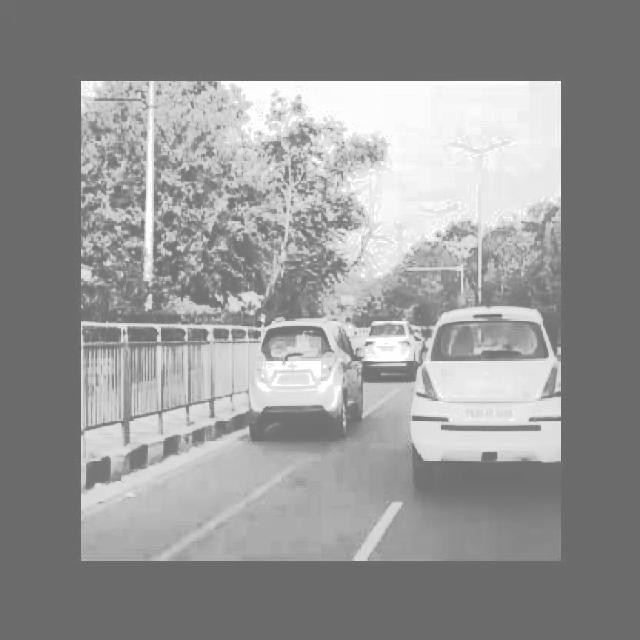Car: (418, 308, 562, 497), (244, 311, 366, 447), (362, 306, 421, 379)
